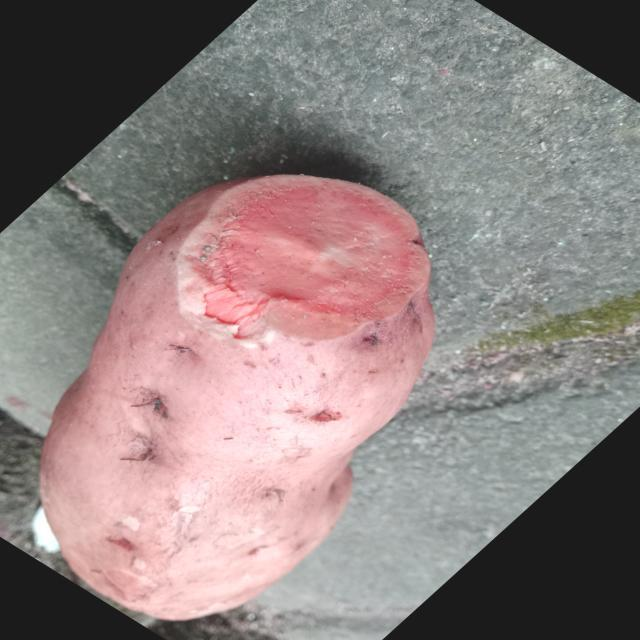Healthy Sweet Potato: (177, 175, 430, 340)
